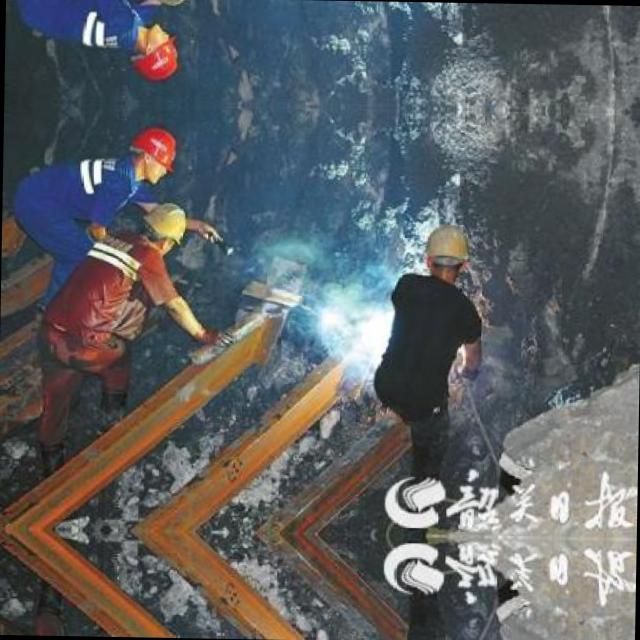helmet: (122, 122, 180, 184), (123, 23, 181, 85), (419, 219, 472, 286), (140, 202, 190, 248)
